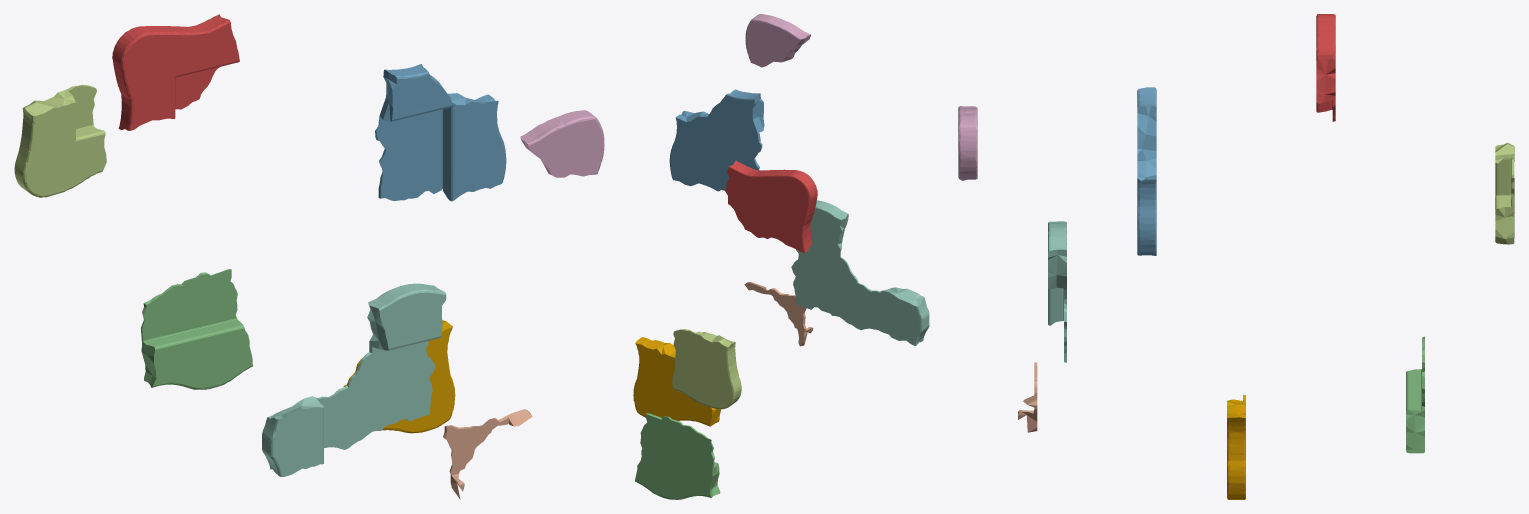
The model's file is fractured_65_8pcs_transformed.glb.
3 renders of one model, left to right at view 1: azimuth 30°, elevation 25°; view 2: azimuth 150°, elevation 25°; view 3: azimuth 270°, elevation 25°, orthographic. The views are drawn at different scales.
Parts seen in each view (by area): view 1: piece_4.obj, piece_2.obj, piece_3.obj, piece_1.obj, piece_5.obj, piece_6.obj, piece_0.obj, piece_7.obj; view 2: piece_4.obj, piece_2.obj, piece_1.obj, piece_3.obj, piece_5.obj, piece_0.obj, piece_6.obj, piece_7.obj; view 3: piece_2.obj, piece_4.obj, piece_5.obj, piece_1.obj, piece_0.obj, piece_3.obj, piece_6.obj.
Boxes of the visible parts, box(x1,y1,x2,y2) form: piece_4.obj: box(262, 283, 446, 476); piece_2.obj: box(375, 64, 506, 201); piece_3.obj: box(141, 269, 252, 389); piece_1.obj: box(112, 14, 239, 130); piece_5.obj: box(14, 84, 106, 197); piece_6.obj: box(520, 110, 604, 177); piece_0.obj: box(343, 320, 455, 433); piece_7.obj: box(443, 409, 532, 499); piece_4.obj: box(791, 200, 929, 345); piece_2.obj: box(669, 89, 764, 191); piece_1.obj: box(725, 160, 817, 252); piece_3.obj: box(635, 413, 720, 499); piece_5.obj: box(672, 329, 741, 409); piece_0.obj: box(633, 337, 720, 426); piece_6.obj: box(745, 14, 810, 67); piece_7.obj: box(744, 282, 813, 346); piece_2.obj: box(1137, 87, 1156, 255); piece_4.obj: box(1048, 221, 1066, 362); piece_5.obj: box(1495, 142, 1514, 244); piece_1.obj: box(1316, 14, 1335, 121); piece_0.obj: box(1227, 395, 1245, 499); piece_3.obj: box(1406, 336, 1424, 453); piece_6.obj: box(958, 106, 977, 180).
Bounding box in the file's own units: 1 × 1.41 × 1.86.
